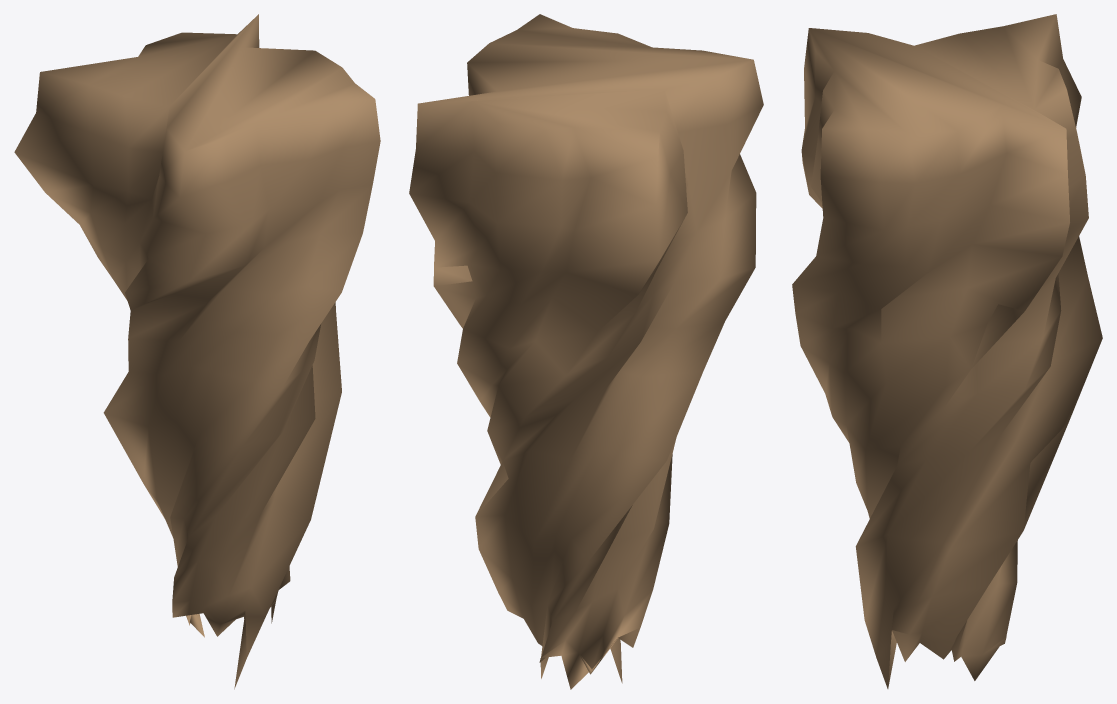
File: CLIFF_05_v01.fbx
The picture shows the model from 3 angles, left to right: view 1: azimuth 30°, elevation 25°; view 2: azimuth 150°, elevation 25°; view 3: azimuth 270°, elevation 25°; orthographic projection. The views are drawn at different scales.
Visible parts, largest first — view 1: MED_CLIFF; view 2: MED_CLIFF; view 3: MED_CLIFF.
Boxes of the visible parts, <box> form: MED_CLIFF: <box>14,14,380,689</box>; MED_CLIFF: <box>409,14,763,689</box>; MED_CLIFF: <box>792,14,1102,688</box>.
Bounding box in the file's own units: 574 × 1205 × 550.
